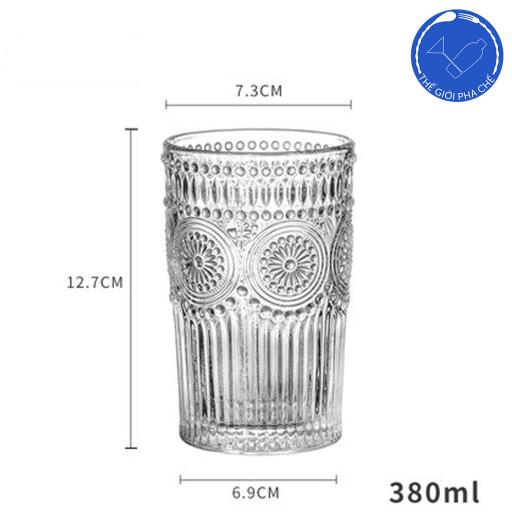cup: (161, 129, 355, 453)
